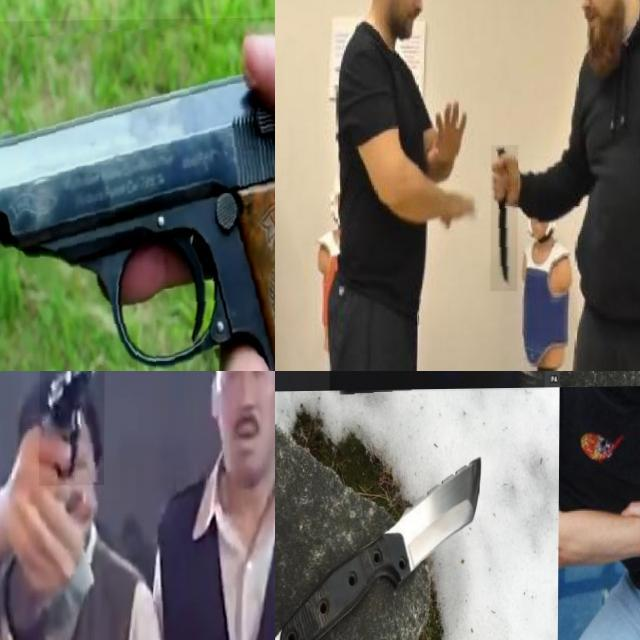-: (330, 371, 546, 507), (371, 448, 486, 592), (491, 146, 519, 292)
gun-knife-thesis - v11 Yolov5 augmented: (0, 16, 275, 371), (39, 371, 105, 486)
